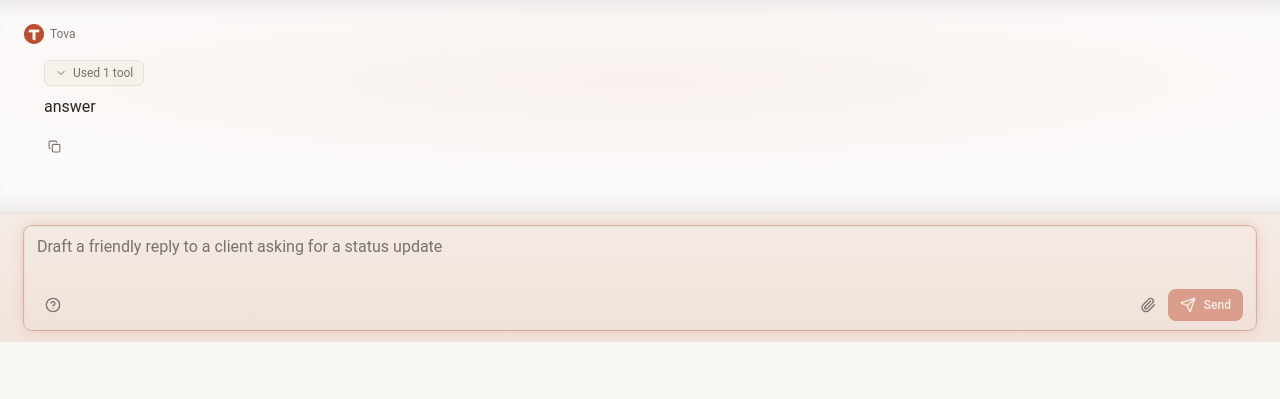
it: Tool chip result counts (issue #114) › shows the file count for list_files results
The width and height of the screenshot is (1280, 399).
Step 1. Click the button with test id "tool-summary-toggle" → coordinates (94, 73), box [44,60,144,86]
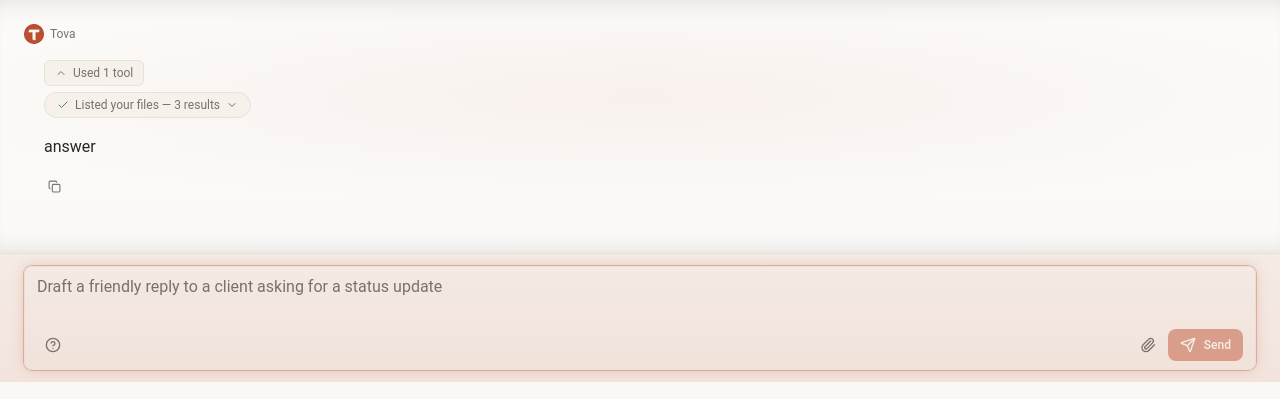
Check: the element with test id "tool-chip-list_files" shows "3 results", box [44,92,251,118]
